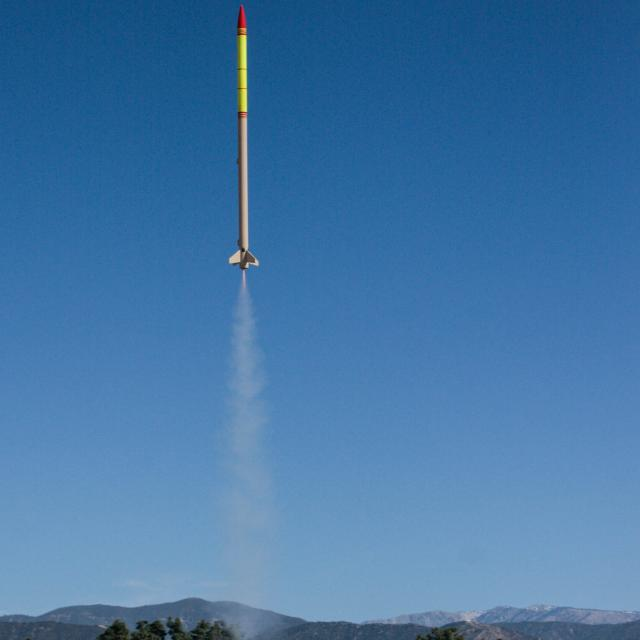Rocket: (227, 4, 261, 270)
